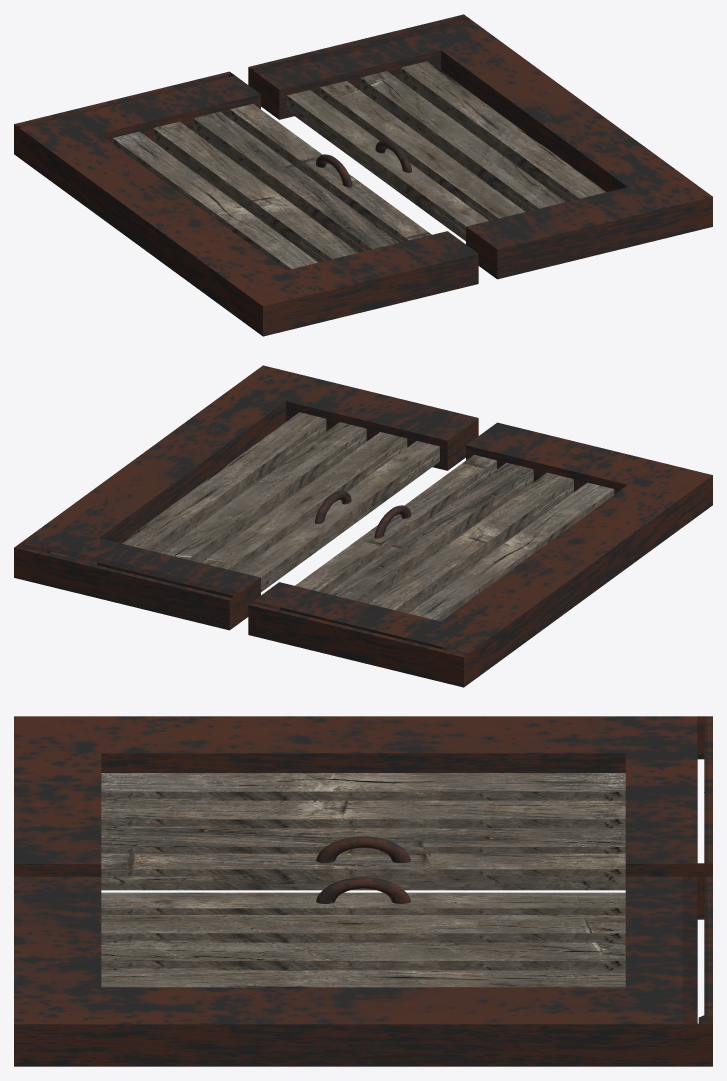
Rendered from underground gate.fbx.
The picture shows the model from 3 angles, top to bottom: view 1: azimuth 30°, elevation 25°; view 2: azimuth 150°, elevation 25°; view 3: azimuth 270°, elevation 25°; orthographic projection. The views are drawn at different scales.
Visible parts, largest first — view 1: Gate part 2, Gate part 1; view 2: Gate part 2, Gate part 1; view 3: Gate part 1, Gate part 2, Handle 1, Handle 2.
Boxes of the visible parts, left/top/right/bottom form: Gate part 2: left=14, top=71, right=478, bottom=336; Gate part 1: left=248, top=14, right=712, bottom=279; Gate part 2: left=248, top=422, right=712, bottom=687; Gate part 1: left=14, top=365, right=478, bottom=630; Gate part 1: left=14, top=876, right=712, bottom=1066; Gate part 2: left=14, top=716, right=712, bottom=890; Handle 1: left=316, top=877, right=410, bottom=903; Handle 2: left=316, top=836, right=410, bottom=862.
Bounding box in the file's own units: 313 × 26.24 × 300.
Materials: 2 (2 with a texture image).
